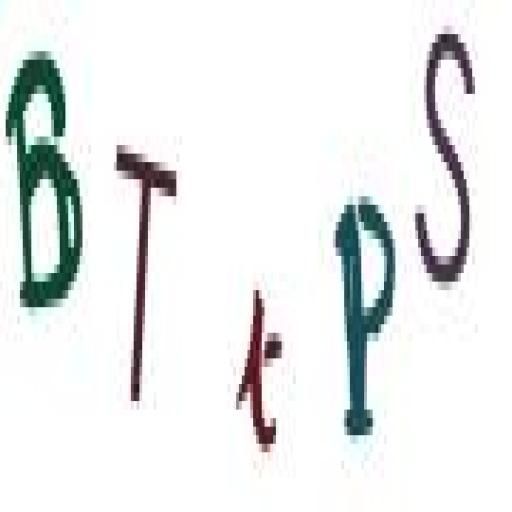B: (3, 34, 93, 341)
P: (330, 182, 400, 455)
S: (414, 19, 480, 309)
T: (109, 120, 181, 418)
t: (230, 262, 290, 470)
